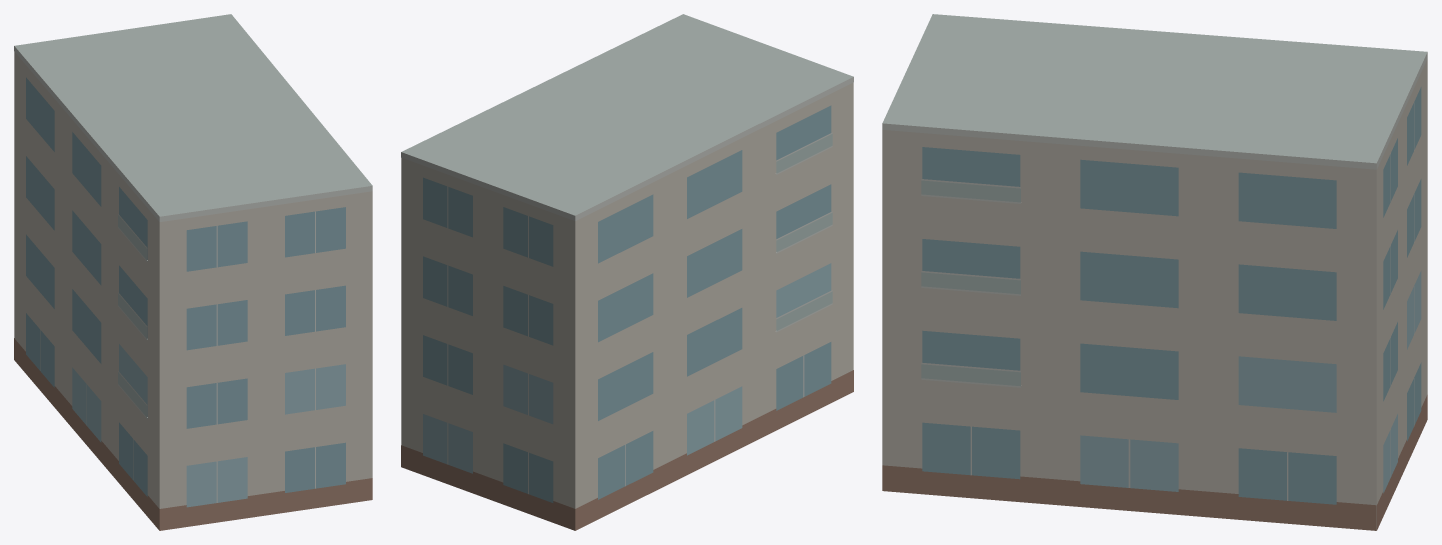
File: survey-upis-32727615.glb
The picture shows the model from 3 angles, left to right: view 1: azimuth 30°, elevation 25°; view 2: azimuth 150°, elevation 25°; view 3: azimuth 270°, elevation 25°; orthographic projection. The views are drawn at different scales.
Parts seen in each view (by area): view 1: survey-upis-32727615.tmp; view 2: survey-upis-32727615.tmp; view 3: survey-upis-32727615.tmp.
Part boxes in pixels (box(x1,y1,x2,y2)): survey-upis-32727615.tmp: box(14, 14, 372, 530); survey-upis-32727615.tmp: box(401, 14, 853, 530); survey-upis-32727615.tmp: box(882, 14, 1427, 530).
Bounding box in the file's own units: 12.21 × 14 × 18.84.
